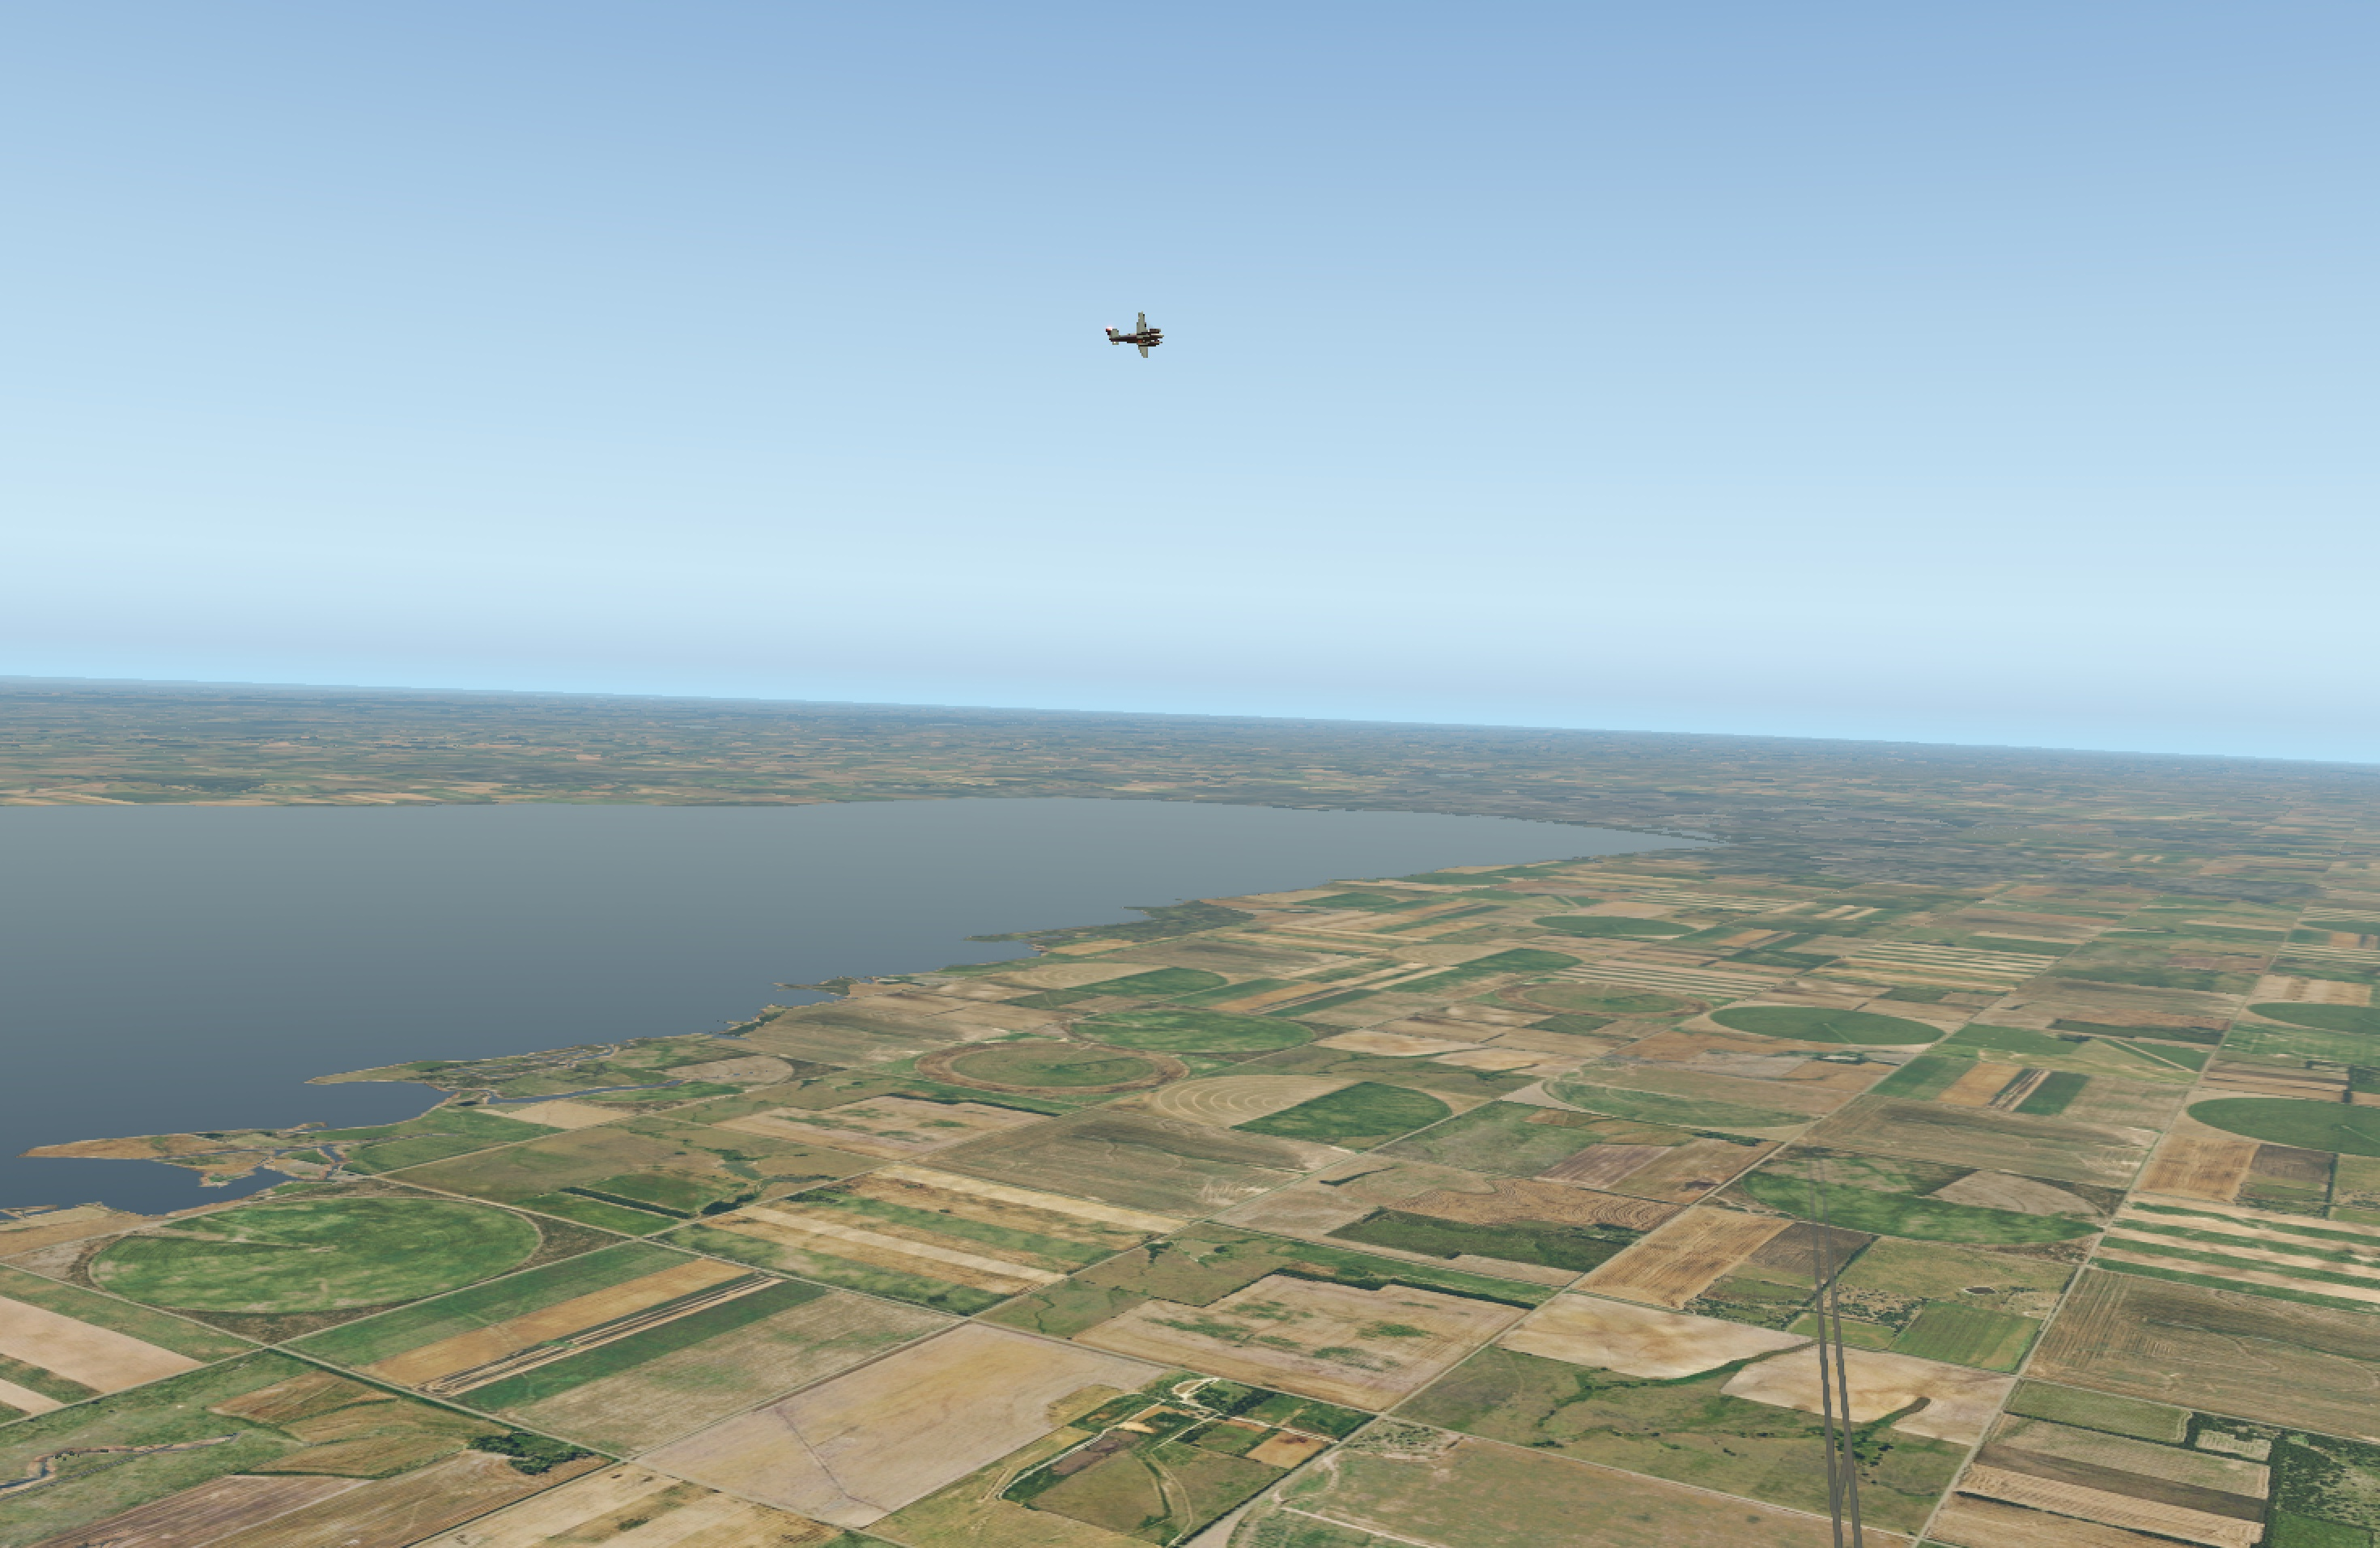aircraft: (1105, 325, 1188, 356)
